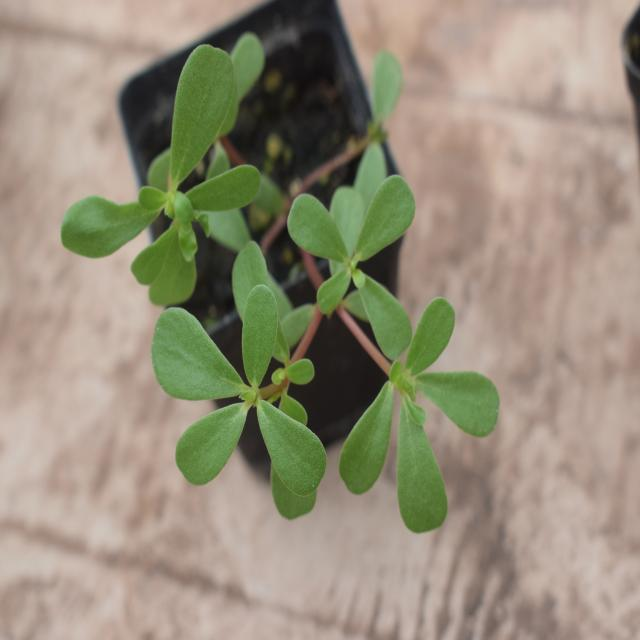purslane: (63, 39, 504, 523)
